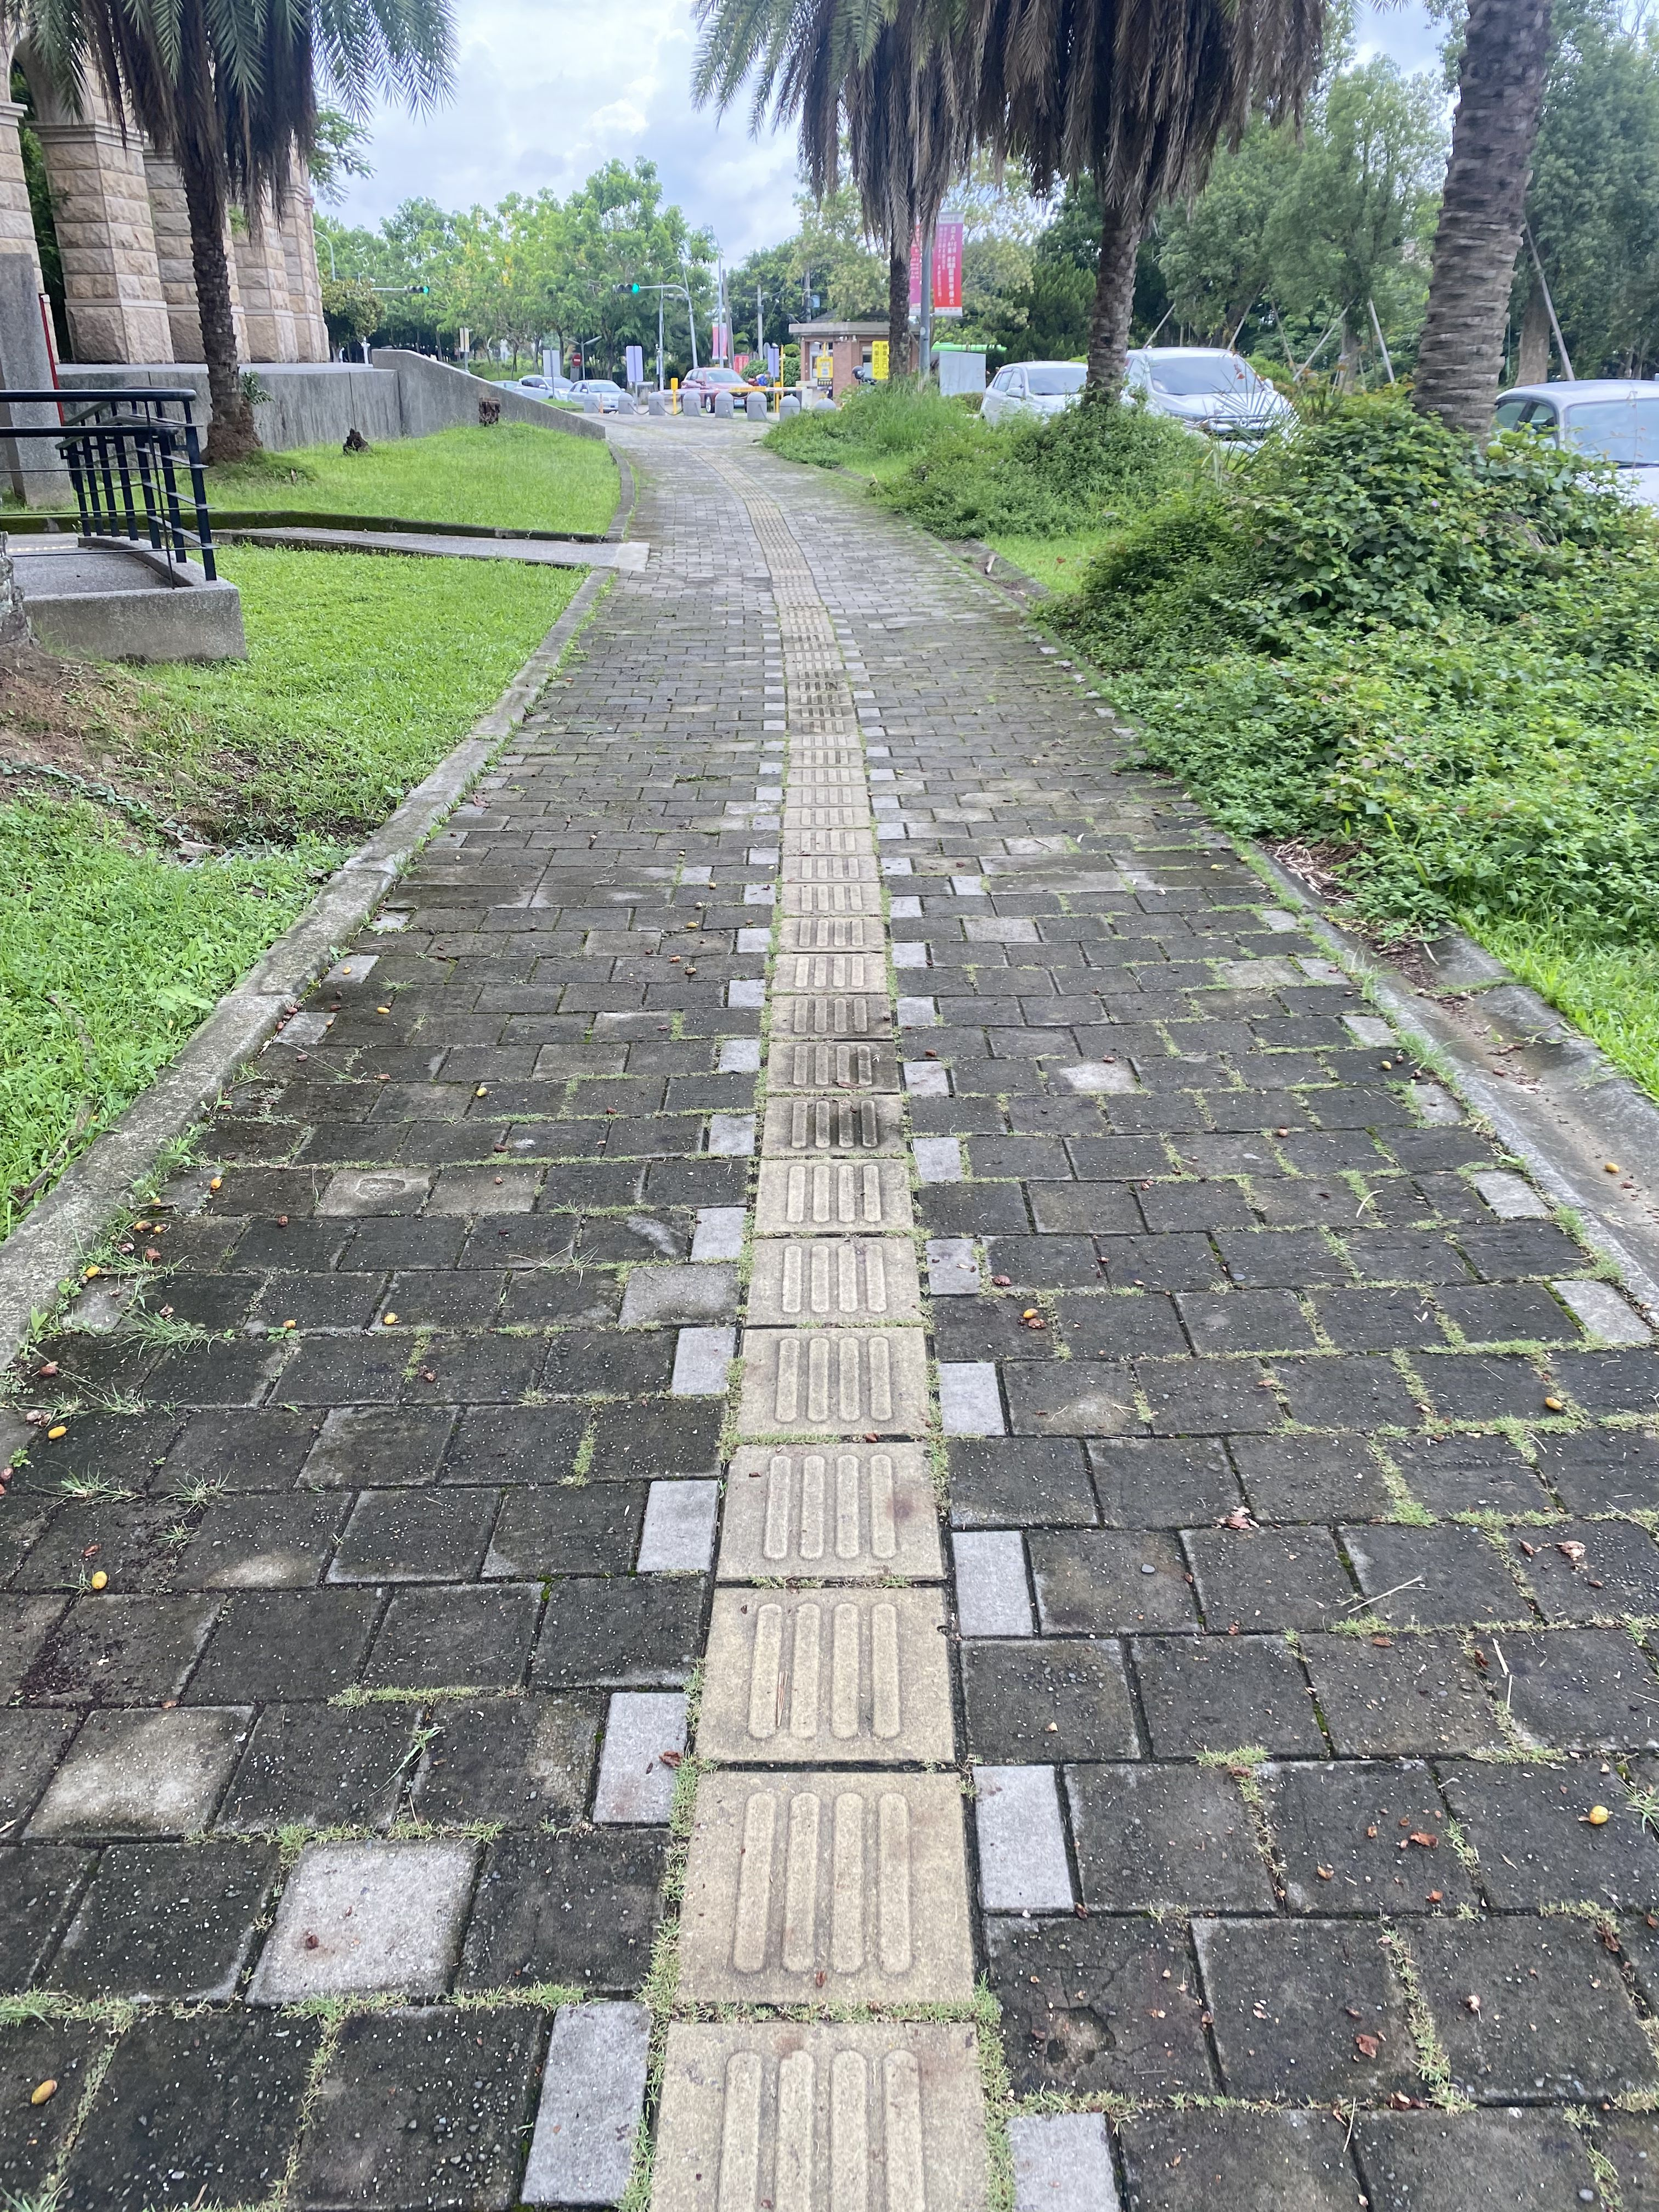0: (7, 676, 1659, 2212)
sidewalk: (554, 381, 1248, 1580)
